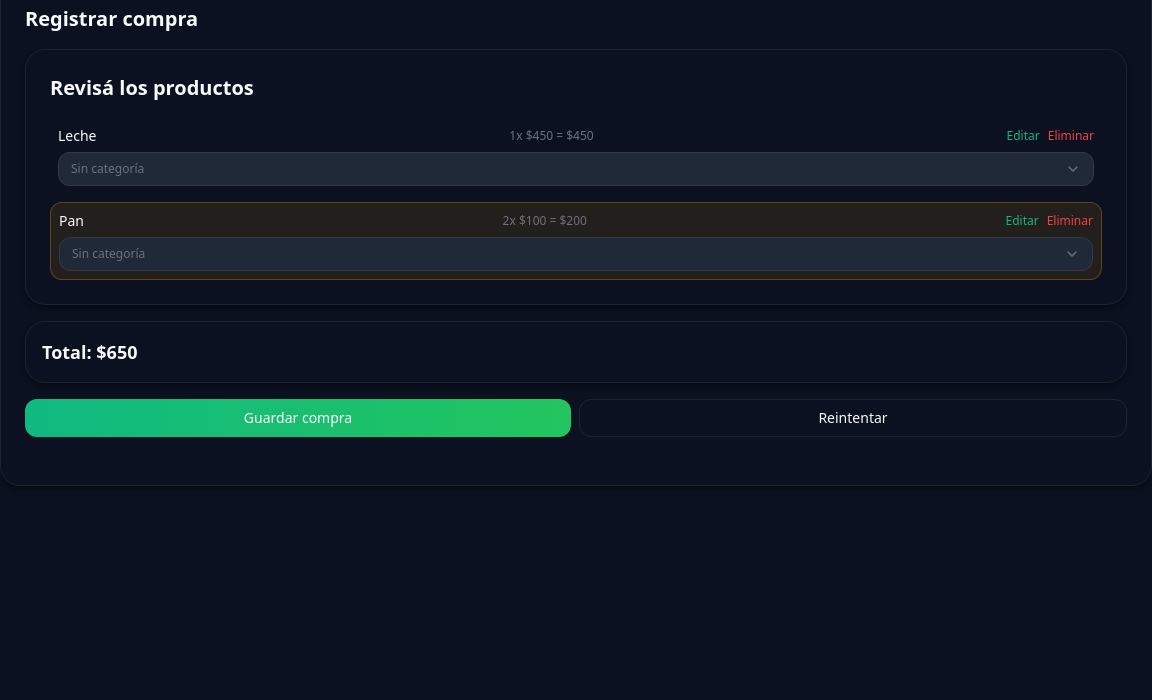
Test: OCR → Purchase Integration › saves purchase from OCR review and shows success message
Expected: the heading "Revisá los productos" is shown, left=50, top=74, right=254, bottom=101
Step 1. Click the button "Guardar compra" → [298, 418], box left=25, top=399, right=571, bottom=437
(page scrolled)
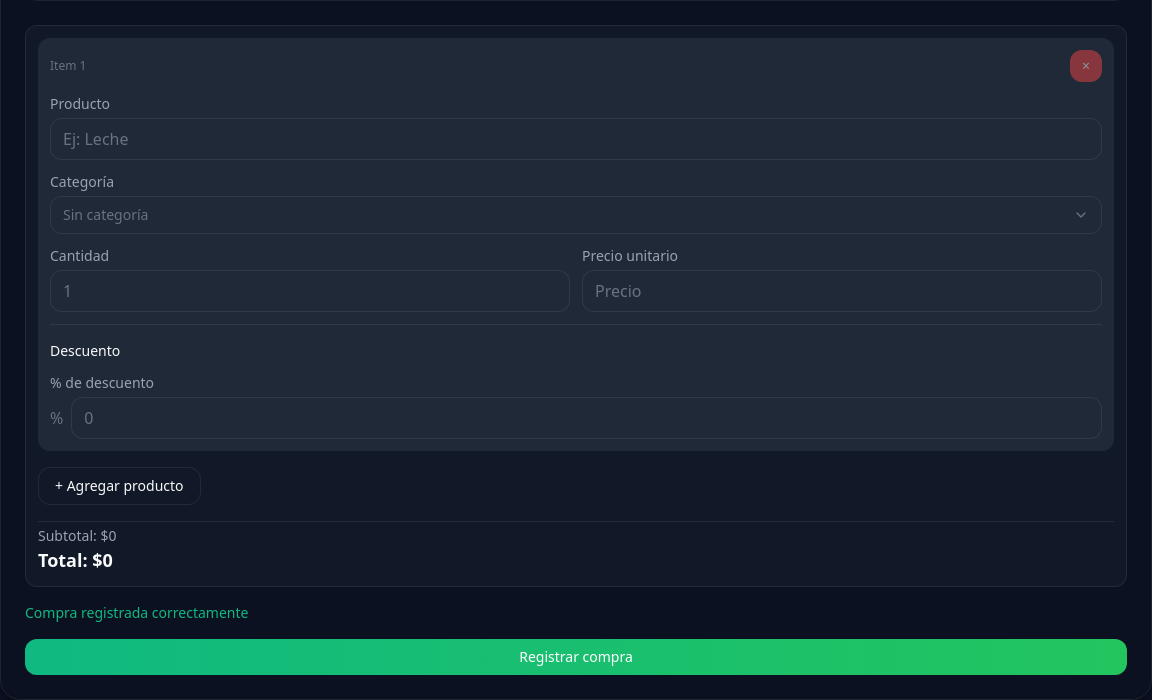
Expected: the text "Compra registrada correctamente" is shown, left=25, top=603, right=248, bottom=622
